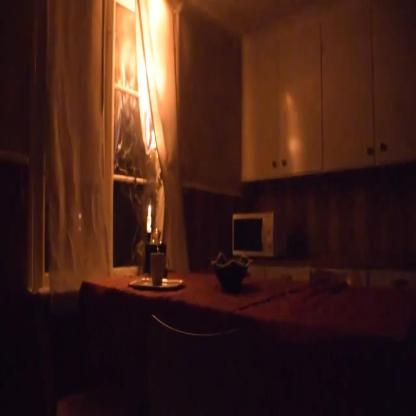fire: (120, 0, 176, 158), (147, 200, 152, 217)
